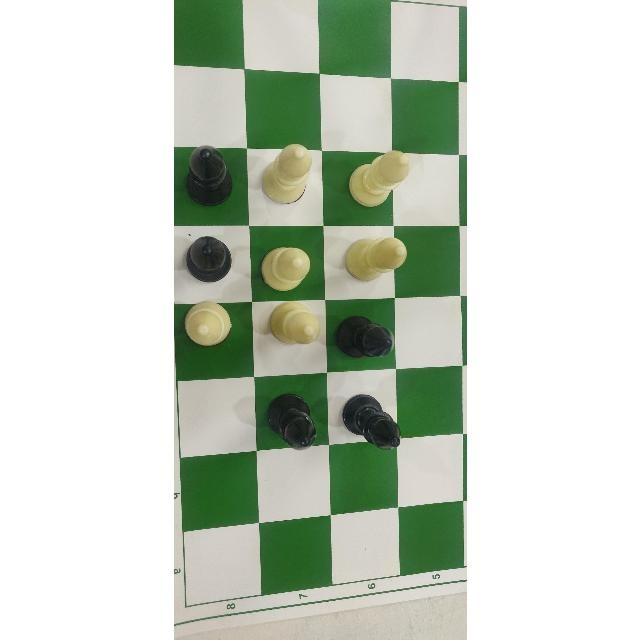black-bishop: (181, 138, 238, 212), (340, 392, 402, 454), (333, 305, 396, 365), (262, 390, 317, 454), (181, 232, 237, 287)
white-bishop: (343, 138, 409, 216), (339, 225, 409, 297), (255, 138, 319, 212), (258, 233, 318, 302), (260, 297, 323, 351), (179, 296, 236, 352)
